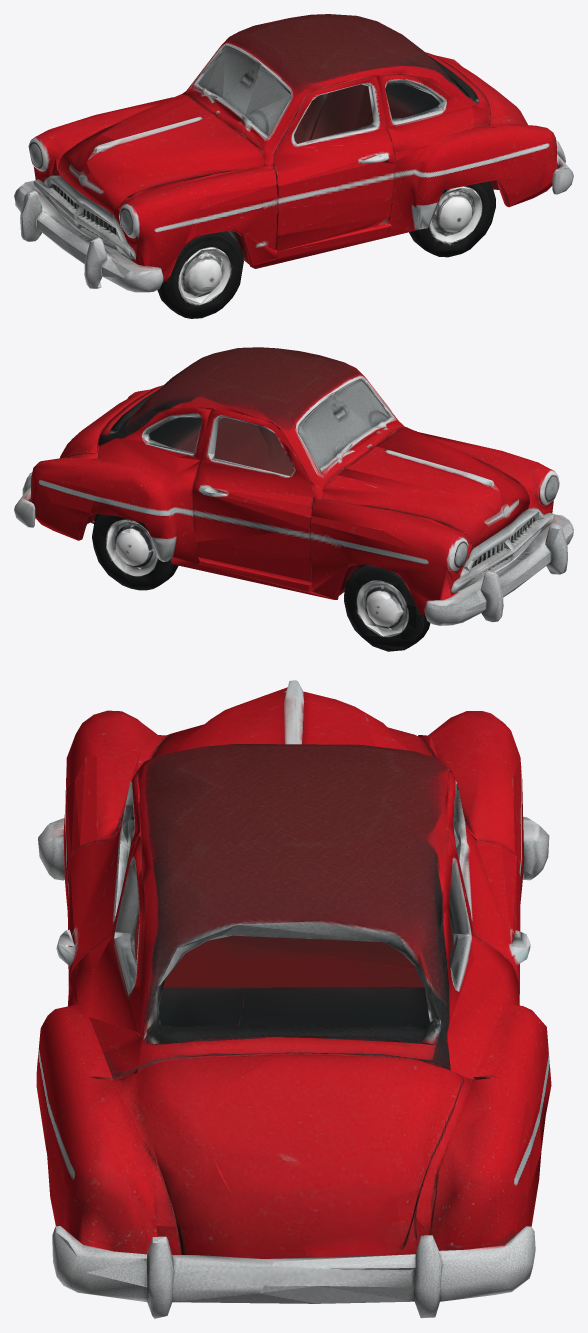
File: ToyCar.fbx
The picture shows the model from 3 angles, top to bottom: view 1: azimuth 30°, elevation 25°; view 2: azimuth 150°, elevation 25°; view 3: azimuth 270°, elevation 25°; orthographic projection. The views are drawn at different scales.
Visible parts, largest first — view 1: Mesh_0; view 2: Mesh_0; view 3: Mesh_0.
Part boxes in pixels (box(x1,y1,x2,y2)): Mesh_0: box(14, 14, 573, 318); Mesh_0: box(14, 347, 573, 651); Mesh_0: box(36, 680, 551, 1318).
Size of the model in its own units: 190 by 78.35 by 88.79.
Materials: 1 (1 with a texture image).
